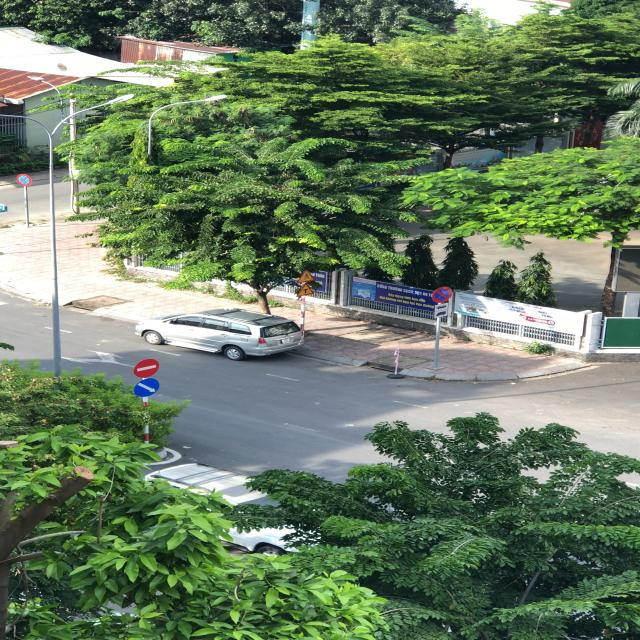Bien bao cam di nguoc chieu: (131, 357, 165, 379)
Bien bao cam dung xe va do xe: (428, 285, 455, 304)
Bien bao duong giao nhau: (293, 282, 317, 298)
Bien bao duong nguoi di bo cat ngang: (295, 269, 319, 283)
Bien bao huong phai di vong chuong ngai vat: (131, 378, 166, 400)
